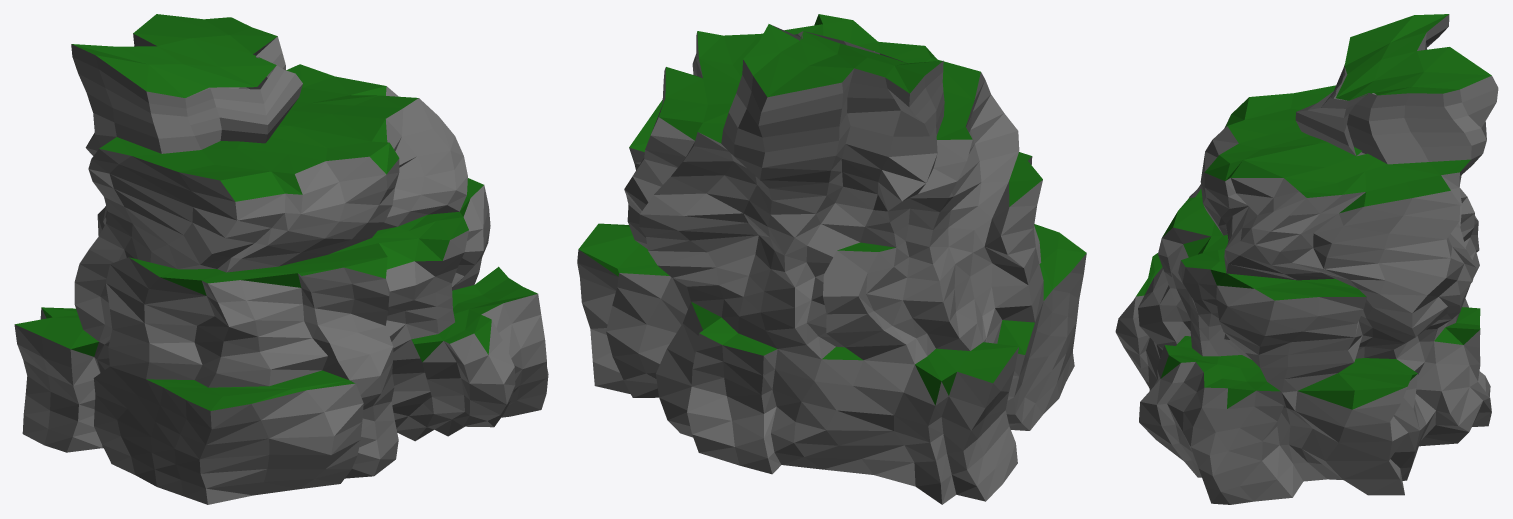
File: Wallrock3.fbx
The picture shows the model from 3 angles, left to right: view 1: azimuth 30°, elevation 25°; view 2: azimuth 150°, elevation 25°; view 3: azimuth 270°, elevation 25°; orthographic projection. The views are drawn at different scales.
Visible parts, largest first — view 1: Plane.006, Plane.007; view 2: Plane.006, Plane.007; view 3: Plane.006, Plane.007.
Boxes of the visible parts, bbox=[...] form: Plane.006: bbox=[14, 33, 548, 504]; Plane.007: bbox=[15, 14, 537, 410]; Plane.006: bbox=[577, 24, 1086, 504]; Plane.007: bbox=[578, 14, 1086, 405]; Plane.006: bbox=[1115, 14, 1498, 504]; Plane.007: bbox=[1136, 14, 1491, 409].
Bounding box in the file's own units: 2739 × 2325 × 2329.
